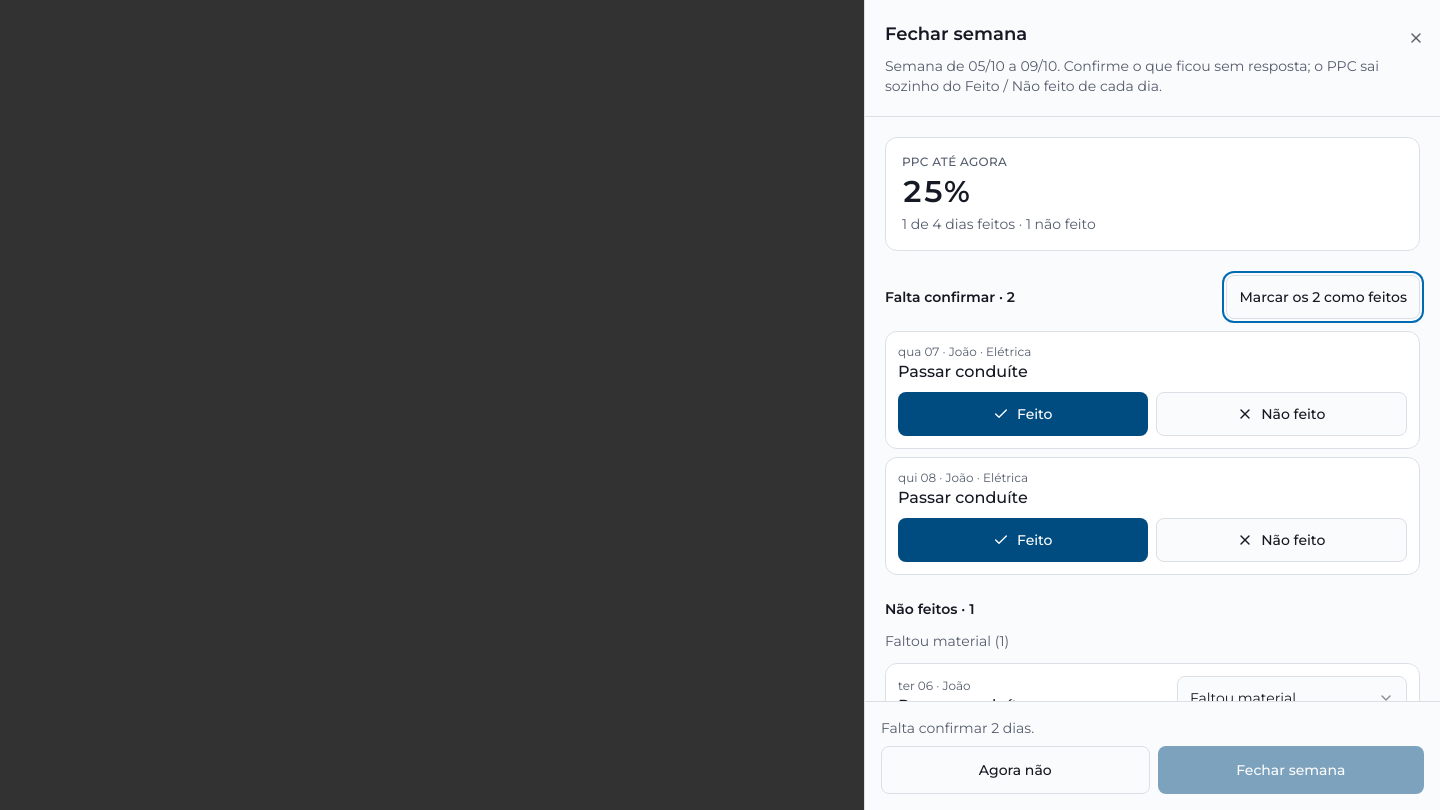
Test: CloseWeekSheet › 'Marcar os N como feitos' confirma todos e libera o fechamento
Click the button "Marcar os 2 como feitos" at (1323, 297), box 1226,275 -> 1420,319
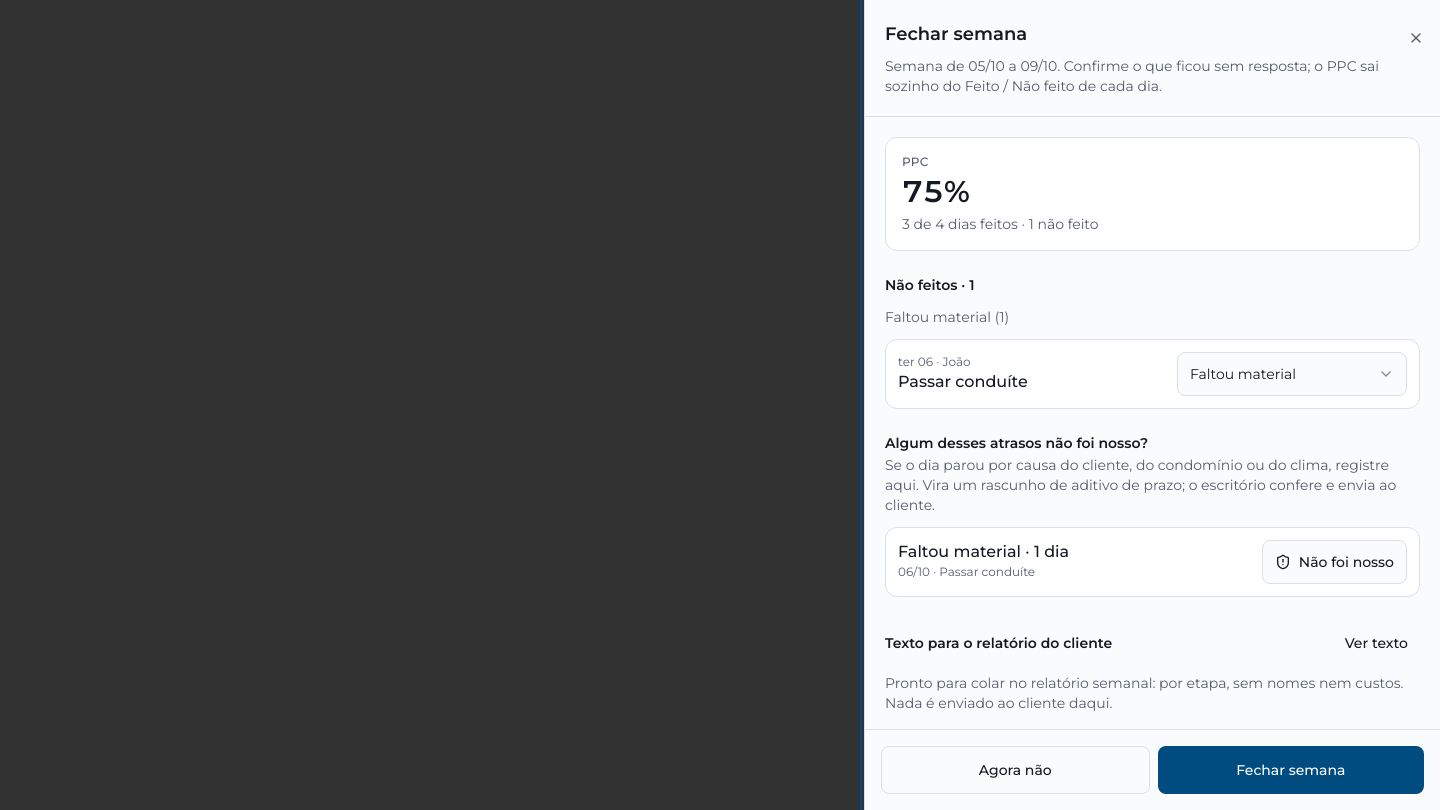
Result: the button "Fechar semana" is enabled at 1158,746 -> 1424,794
Result: the text "75%" is shown at 902,173 -> 970,210
Result: the heading "Falta confirmar" is gone
